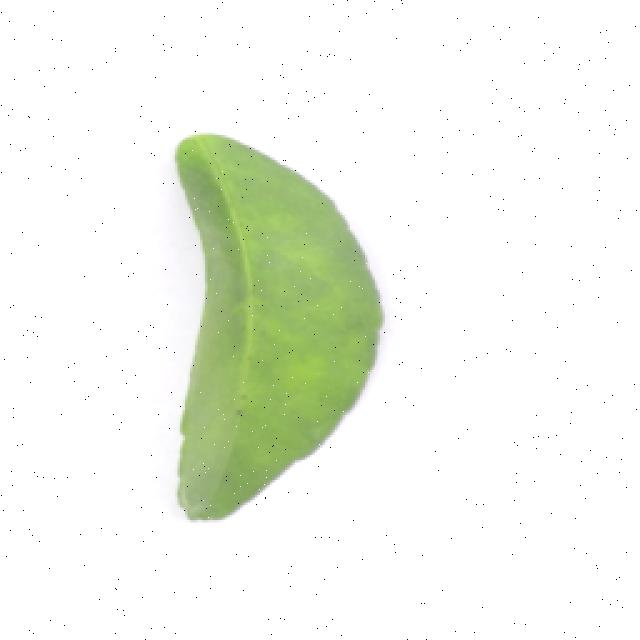greening: (146, 117, 396, 519)
